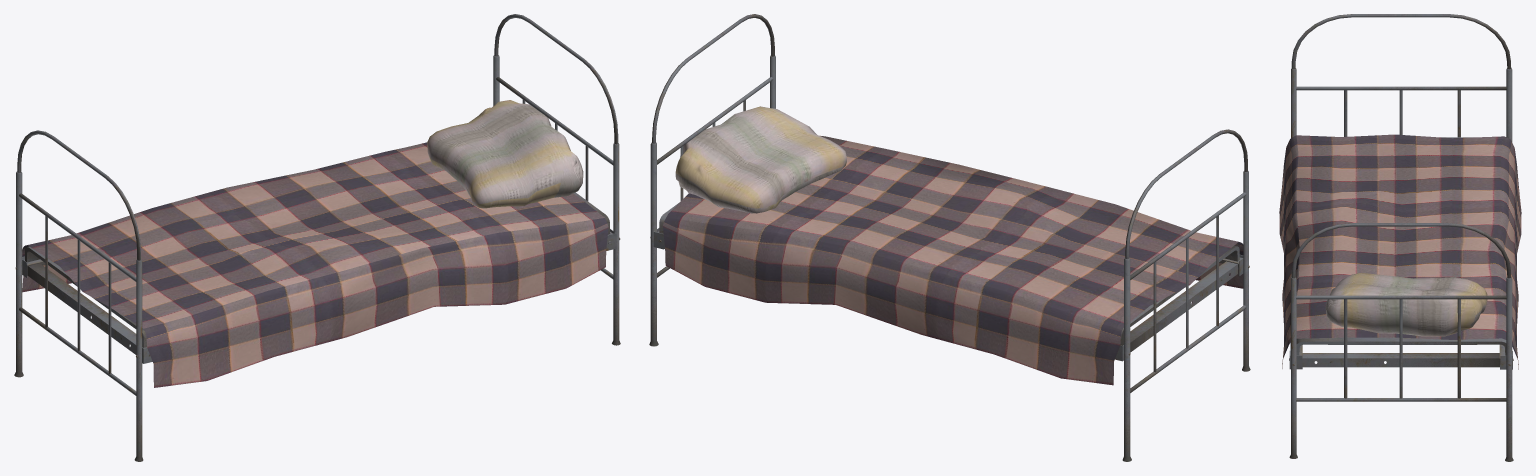
The model's file is bed_metal_2.FBX.
3 views of the same model, side by side, from view 1: azimuth 30°, elevation 25°; view 2: azimuth 150°, elevation 25°; view 3: azimuth 270°, elevation 25° (orthographic). The views are drawn at different scales.
Parts seen in each view (by area): view 1: bed_metal_2; view 2: bed_metal_2; view 3: bed_metal_2.
Boxes of the visible parts, x1=… form: bed_metal_2: x1=14, y1=14, x2=620, y2=461; bed_metal_2: x1=649, y1=14, x2=1250, y2=461; bed_metal_2: x1=1279, y1=14, x2=1521, y2=461.
Bounding box in the file's own units: 304 × 156 × 145.
